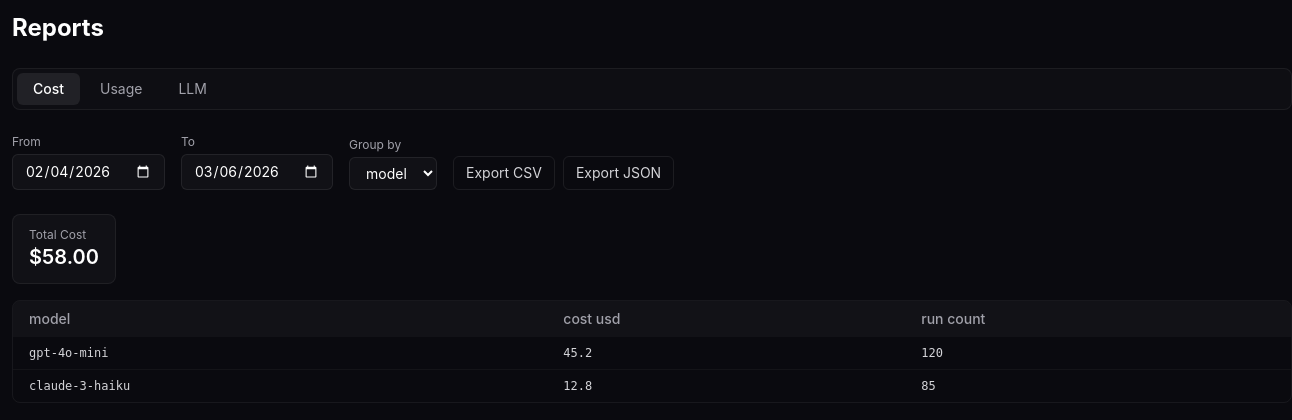
Test case: ReportsPage - Usage Tab › renders usage data when tab is clicked
Click the button "Usage".
click(121, 89)  # box [84,73,158,105]
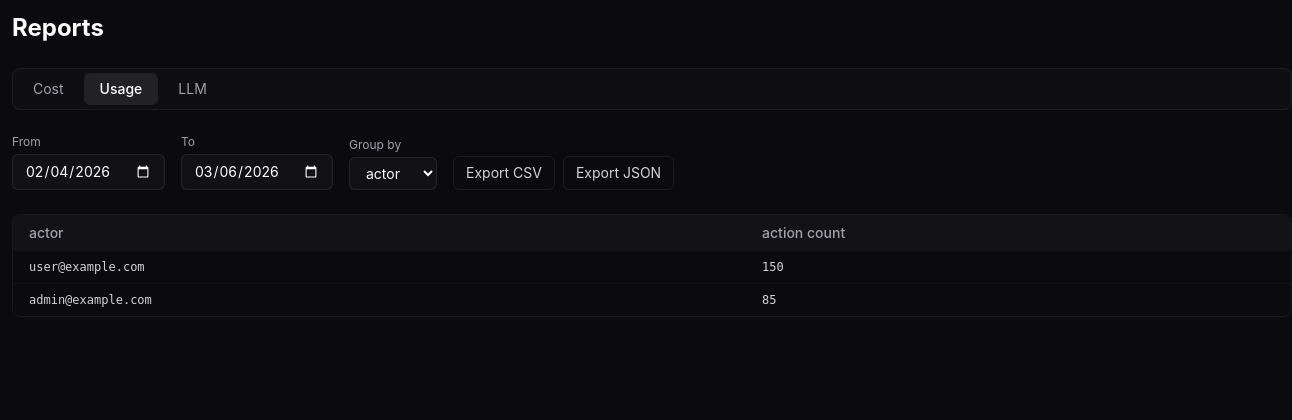
Result: the text "user@example.com" is shown at [13,251,746,284]
Result: the text "admin@example.com" is shown at [13,284,746,316]
